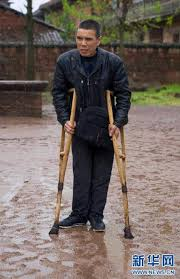crutches: (49, 19, 132, 238)
